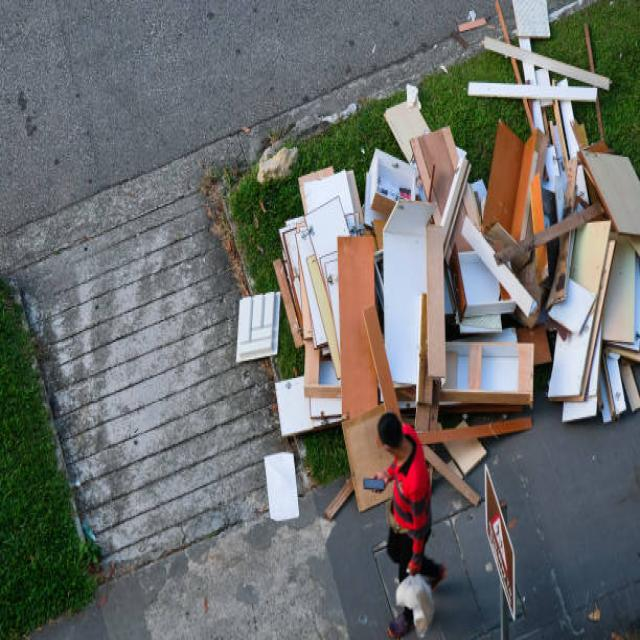bulk_waste: (488, 1, 635, 402), (386, 109, 480, 432), (280, 202, 386, 414)
